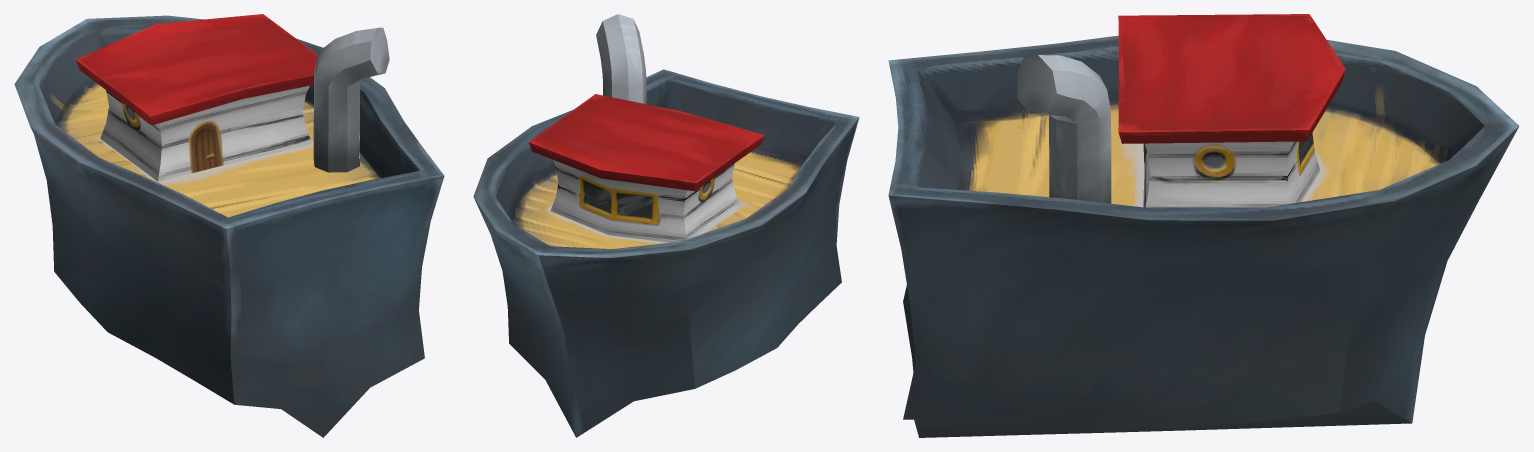
The model's file is boat 1.fbx.
The picture shows the model from 3 angles, left to right: view 1: azimuth 30°, elevation 25°; view 2: azimuth 150°, elevation 25°; view 3: azimuth 270°, elevation 25°; orthographic projection. The views are drawn at different scales.
Visible parts, largest first — view 1: Mesh; view 2: Mesh; view 3: Mesh.
Boxes of the visible parts, left/top/right/bottom form: Mesh: left=14, top=14, right=444, bottom=437; Mesh: left=473, top=14, right=859, bottom=437; Mesh: left=888, top=14, right=1519, bottom=437.
Size of the model in its own units: 63.22 by 69.41 by 89.13.
